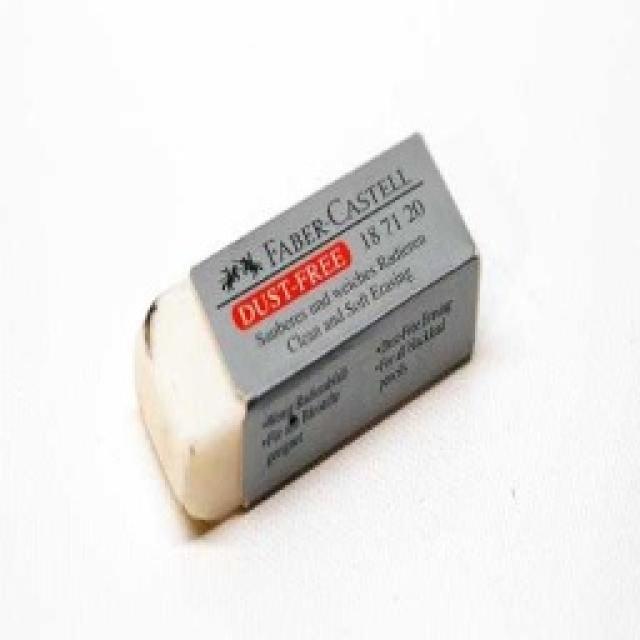Silgi: (130, 128, 482, 525)
